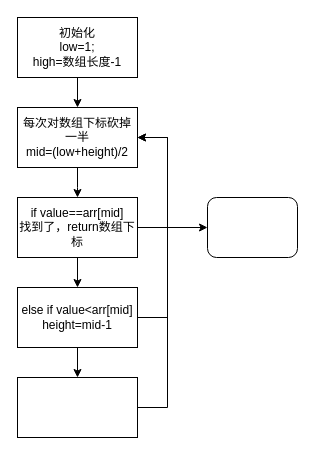
This 315x455 diagram has some shape labels left out. Here are the shapes that lost their labels. From the top down, the centre of each, then its label:
[252,227]: 结束
[77,407]: else if value>arr[mid] low=mid+1
